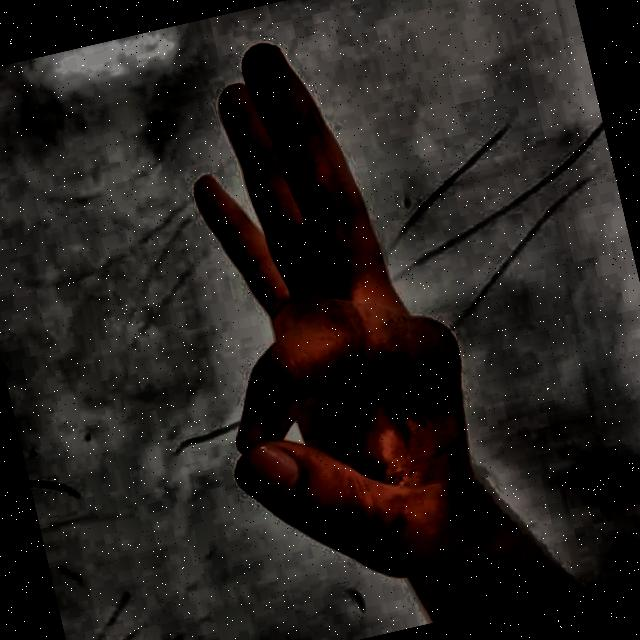Ca: (102, 0, 588, 640)
